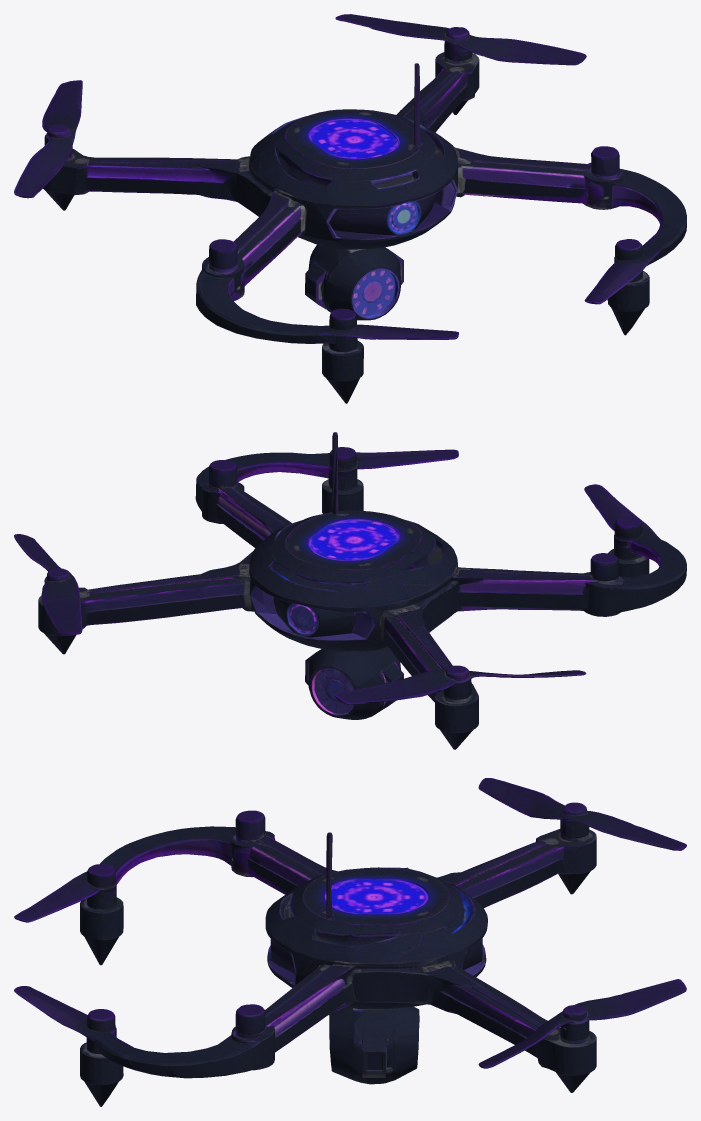
Rendered from d_emp.glb.
3 views of the same model, one above another, from view 1: azimuth 30°, elevation 25°; view 2: azimuth 150°, elevation 25°; view 3: azimuth 270°, elevation 25° (orthographic). The views are drawn at different scales.
Bounding box in the file's own units: 1.9 × 0.8204 × 1.87.
Materials: 1 (1 with a texture image).
